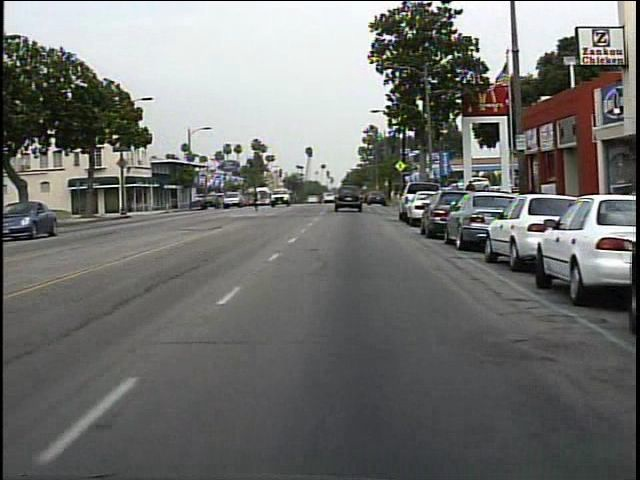person: (460, 176, 480, 217), (250, 182, 268, 213)
